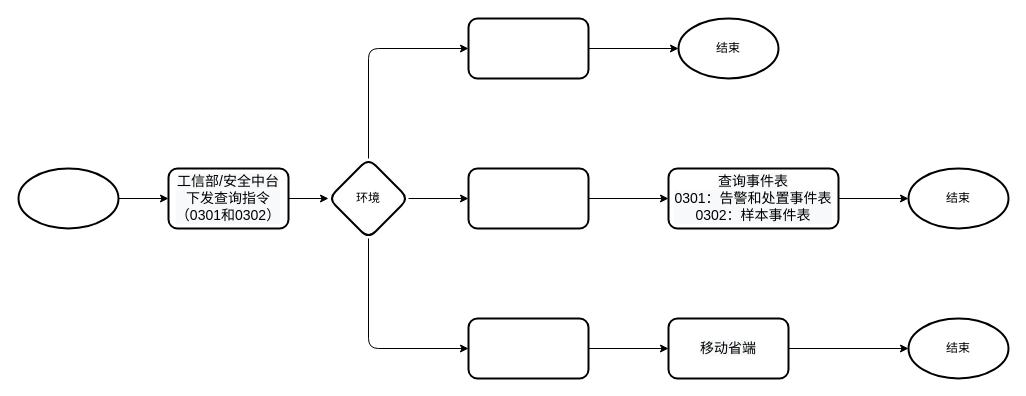
Some shapes in this 1026 by 396 pixel diagram are drawn without their labels. Here are the shapes that lost their labels. From the top down, the box of each, then its label:
(467, 17, 589, 79): 联通集团
(17, 167, 119, 229): 开始
(467, 167, 589, 229): 电信集团
(467, 317, 589, 379): 移动集团
